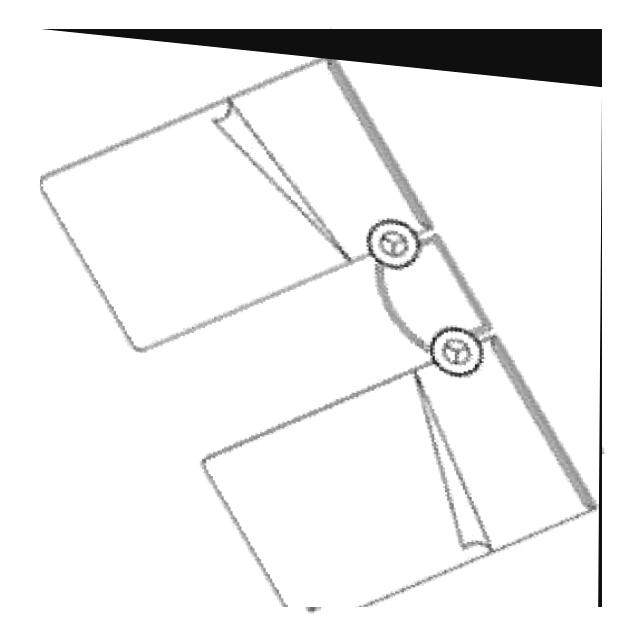bed: (40, 29, 602, 607)
